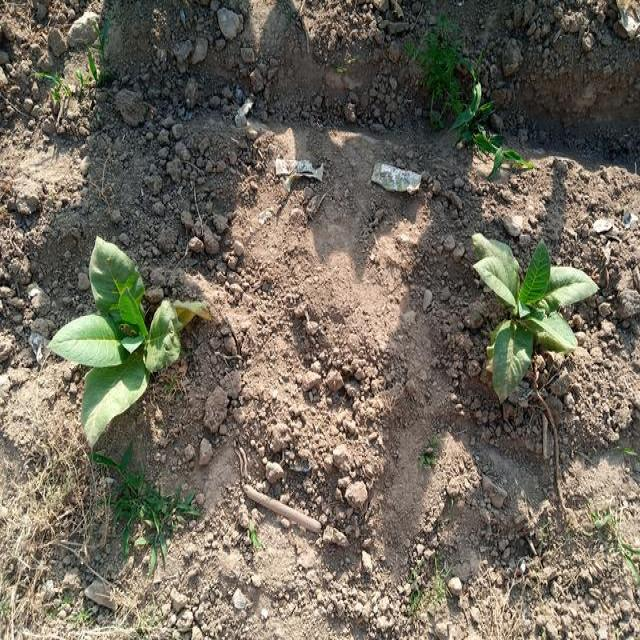crop: (49, 229, 182, 452), (475, 218, 598, 410)
